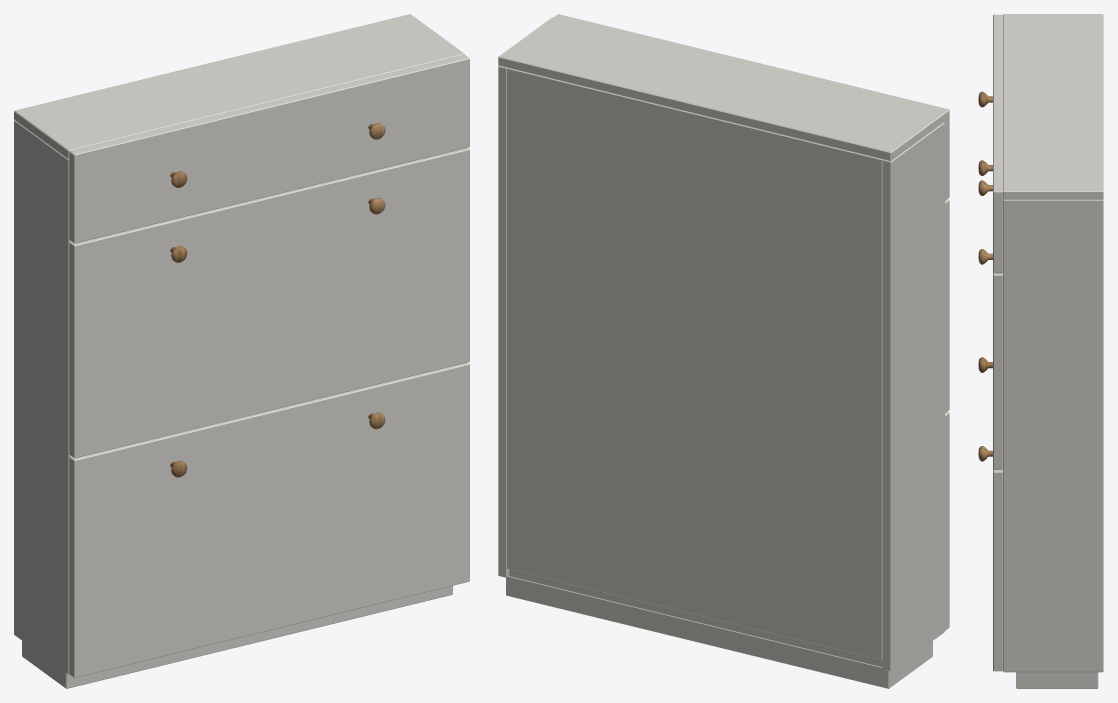
The model's file is zapatero_abatible_80.glb.
3 views of the same model, side by side, from view 1: azimuth 30°, elevation 25°; view 2: azimuth 150°, elevation 25°; view 3: azimuth 270°, elevation 25° (orthographic). The views are drawn at different scales.
Visible parts, largest first — view 1: zapatero_abatible_80; view 2: zapatero_abatible_80; view 3: zapatero_abatible_80.
Boxes of the visible parts, box(x1,y1,x2,y2) form: zapatero_abatible_80: box(14, 14, 469, 688); zapatero_abatible_80: box(498, 14, 949, 688); zapatero_abatible_80: box(978, 14, 1103, 688).
Size of the model in its own units: 0.8001 by 1.05 by 0.238.
Materials: 2 (1 with a texture image).
